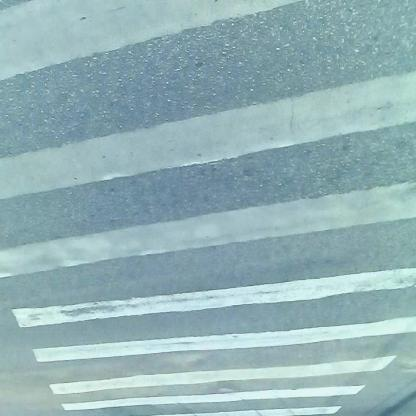crosswalk: (5, 2, 412, 410)
